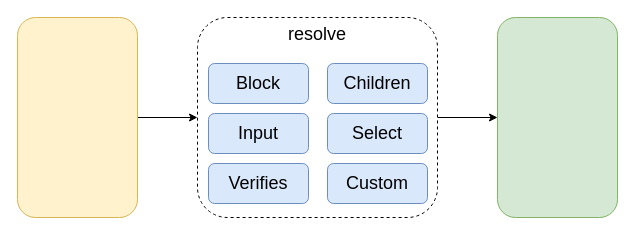
The diagram is 635 pixels wide and 235 high, and some of its shapes have lost their labels. The box of each missing label's shape, as (x1, y1, x2, y2) in pixels:
Form Schema: (16, 16, 138, 218)
视图渲染: (496, 16, 618, 218)
